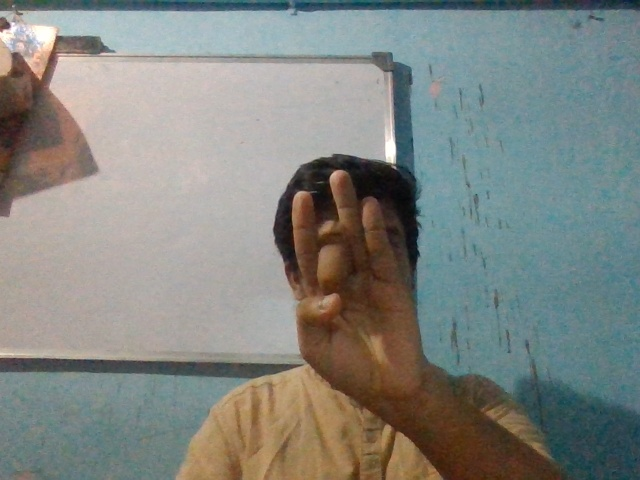Akash: (275, 169, 438, 401)
